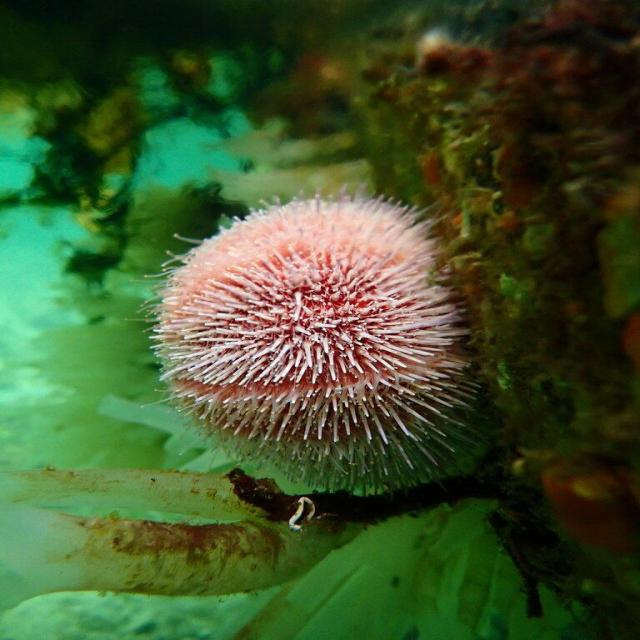Deniz Kestanesi: (124, 181, 502, 497)
